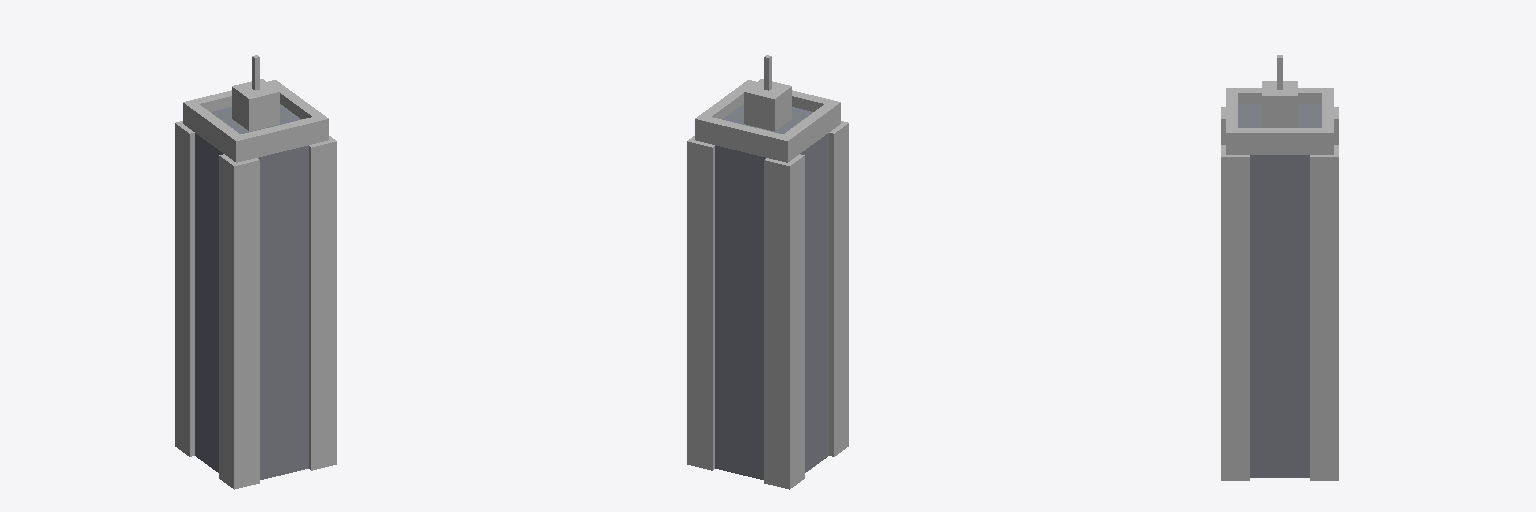
Rendered from low_buildingD.obj.
3 views of the same model, side by side, from view 1: azimuth 30°, elevation 25°; view 2: azimuth 150°, elevation 25°; view 3: azimuth 270°, elevation 25° (orthographic).
Visible parts, largest first — view 1: low_buildingD; view 2: low_buildingD; view 3: low_buildingD.
Boxes of the visible parts, x1=… form: low_buildingD: x1=175, y1=55, x2=336, y2=489; low_buildingD: x1=687, y1=55, x2=848, y2=489; low_buildingD: x1=1221, y1=55, x2=1338, y2=480.
Size of the model in its own units: 0.9256 by 3.42 by 0.9255.